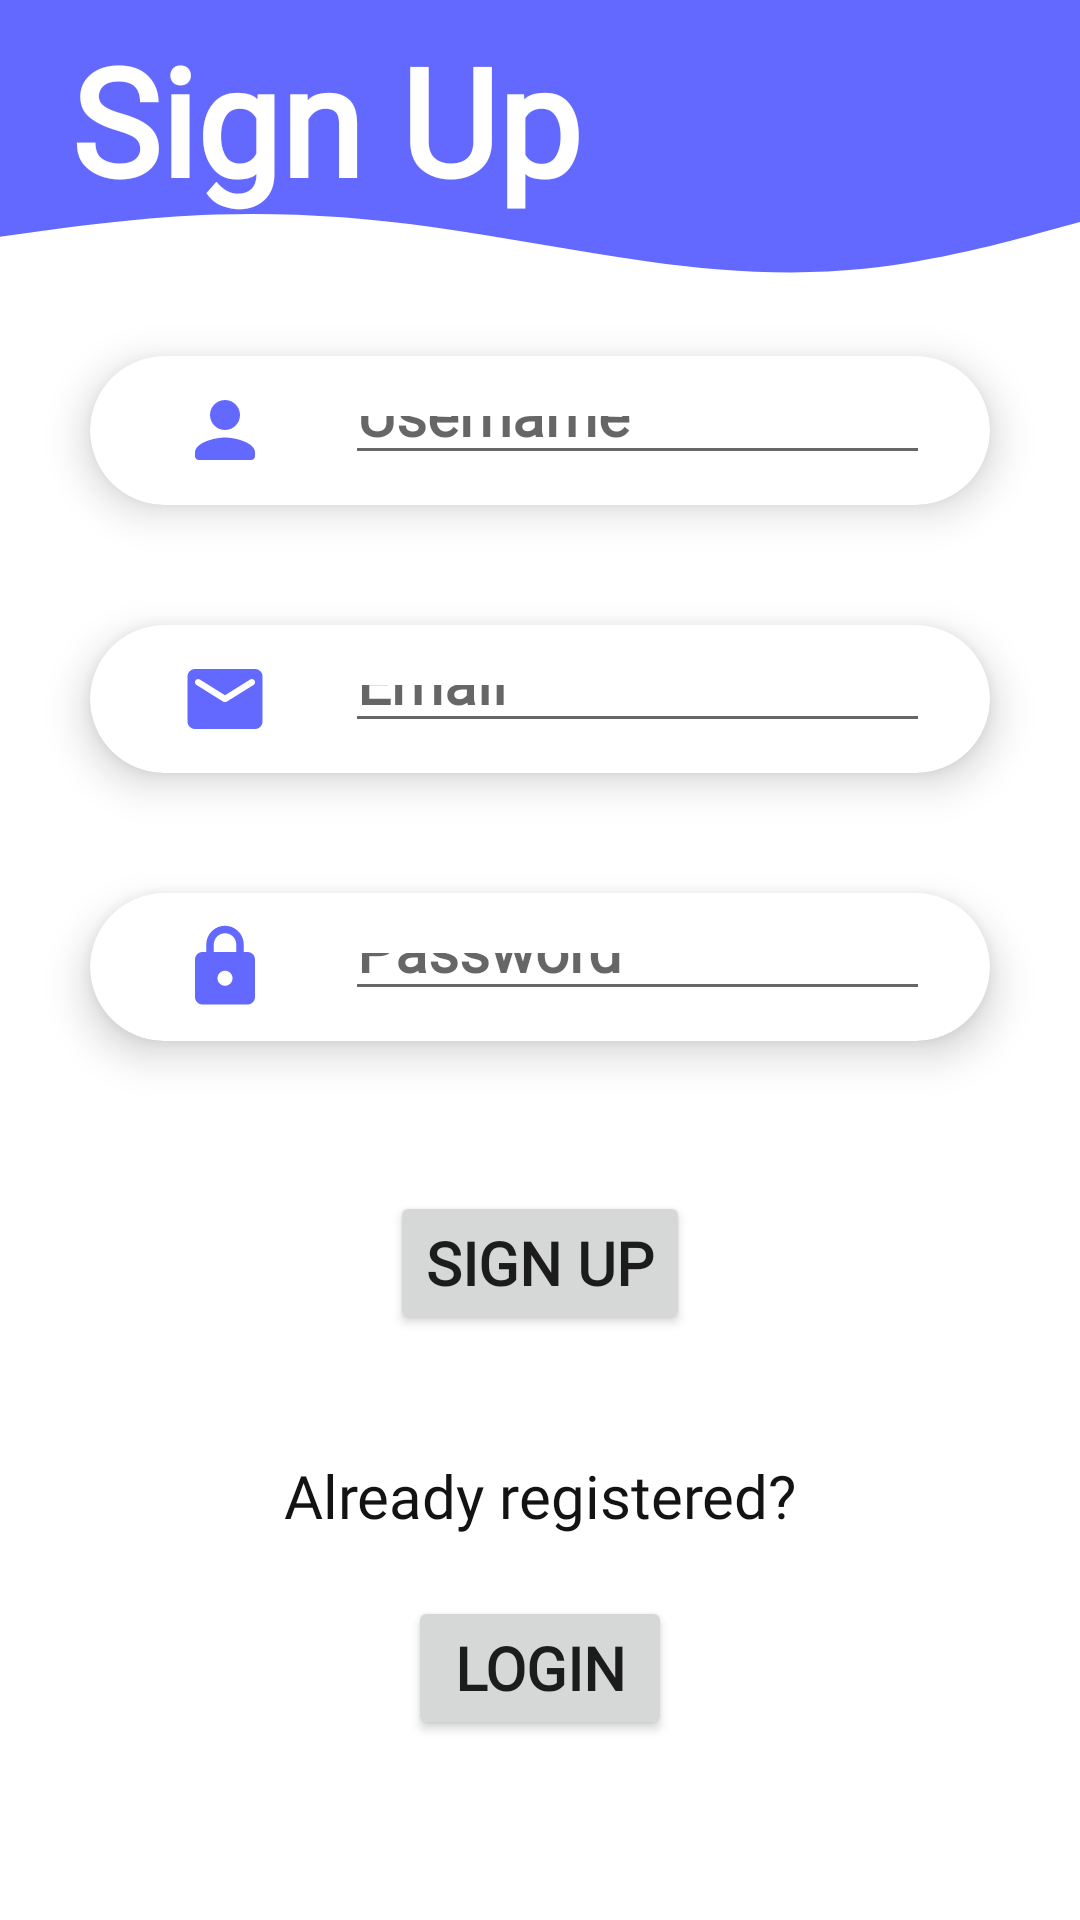

Where to tap for icons on this 1080px x 1920px app screen, as [x,y]:
person: [225,430]
